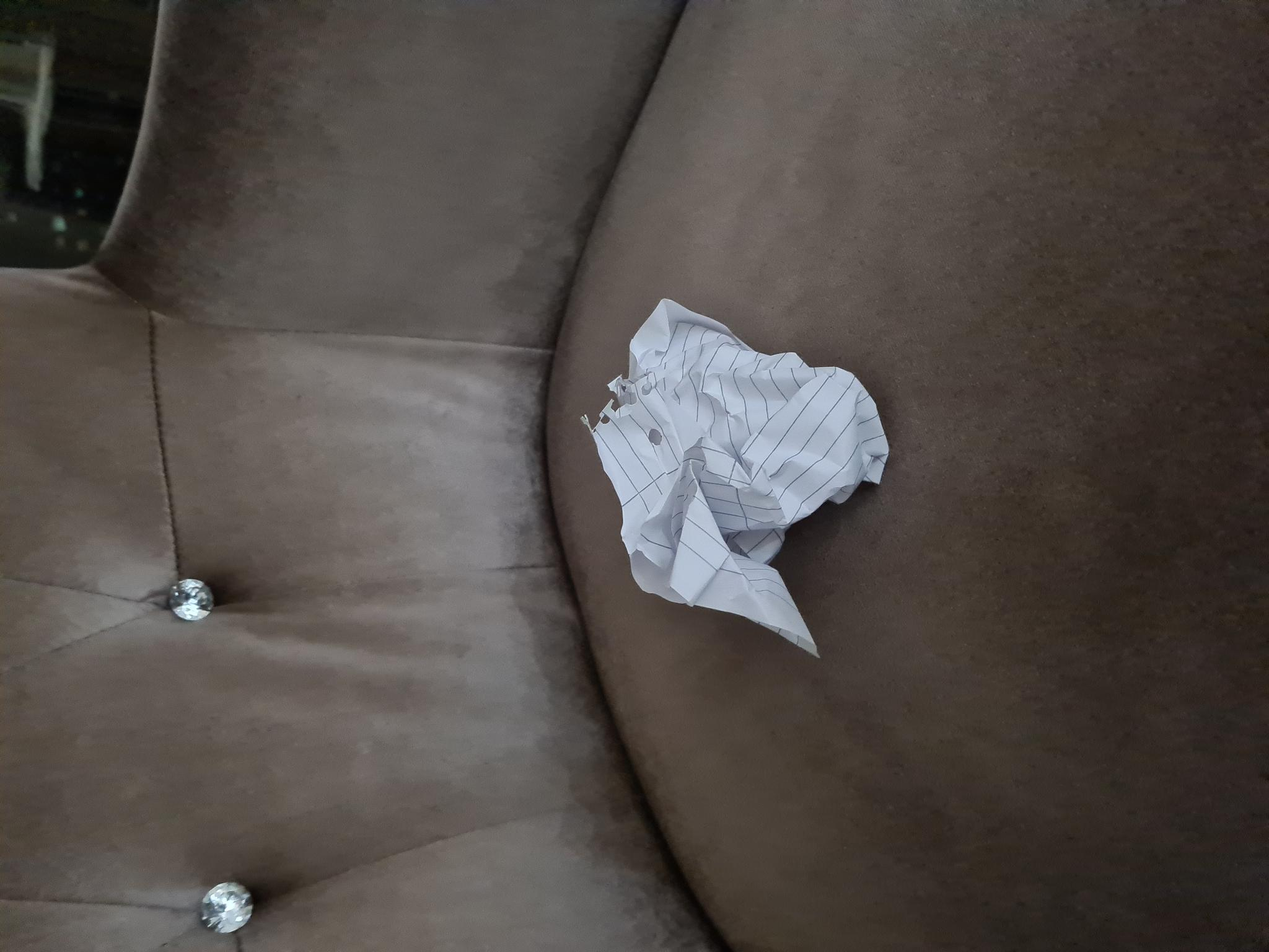Kertas: (319, 591, 652, 888)
